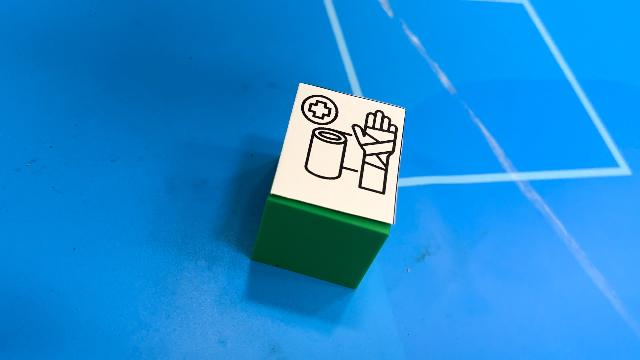bandage: (250, 83, 406, 290)
